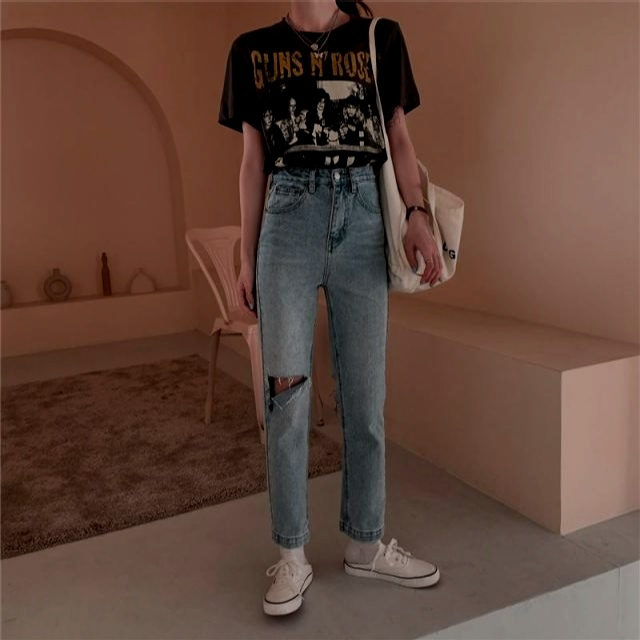ripped_pants: (255, 163, 395, 545)
